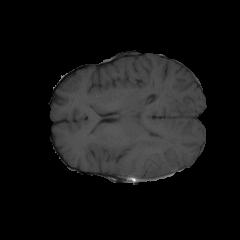glioma: (126, 137, 171, 177)
